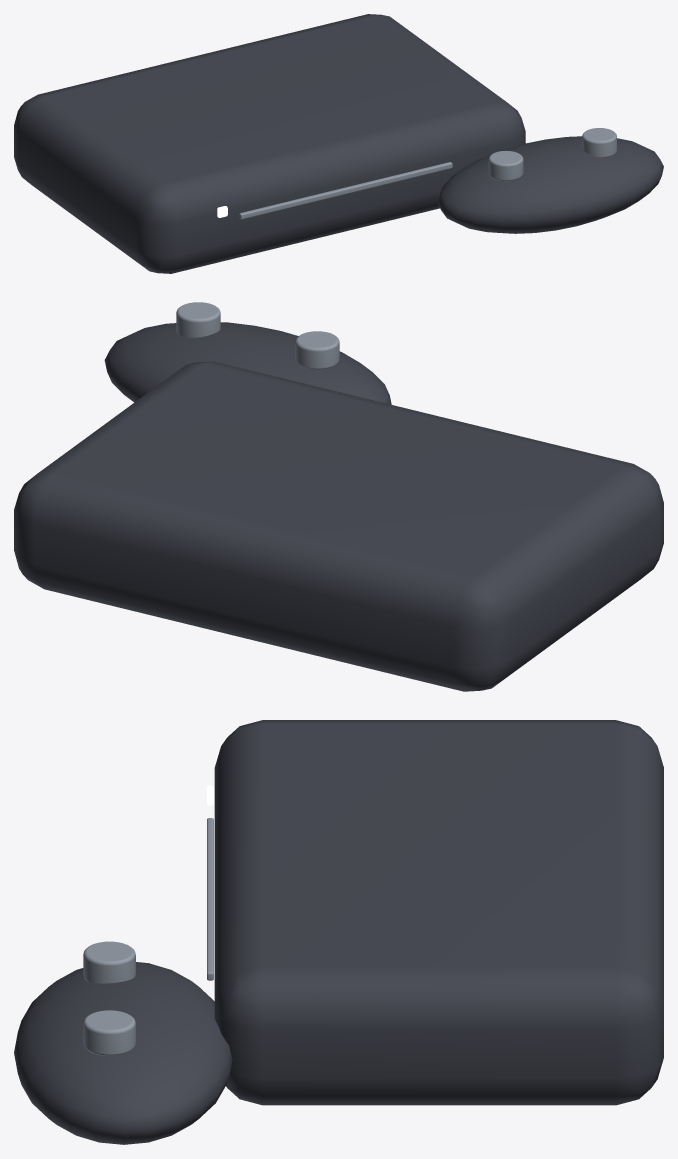
The model's file is consolePs3.glb.
3 views of the same model, one above another, from view 1: azimuth 30°, elevation 25°; view 2: azimuth 150°, elevation 25°; view 3: azimuth 270°, elevation 25° (orthographic). The views are drawn at different scales.
Visible parts, largest first — view 1: Console housing, Controller, Disc slot, Controller stick, Controller stick.001; view 2: Console housing, Controller, Controller stick, Controller stick.001; view 3: Console housing, Controller, Controller stick.001, Controller stick, Disc slot.
Boxes of the visible parts, x1=… form: Console housing: x1=14, y1=14, x2=525, y2=273; Controller: x1=437, y1=136, x2=663, y2=233; Disc slot: x1=239, y1=162, x2=452, y2=219; Controller stick: x1=488, y1=150, x2=523, y2=181; Controller stick.001: x1=582, y1=128, x2=616, y2=157; Console housing: x1=14, y1=361, x2=663, y2=691; Controller: x1=104, y1=322, x2=391, y2=404; Controller stick: x1=295, y1=331, x2=339, y2=369; Controller stick.001: x1=176, y1=302, x2=220, y2=337; Console housing: x1=214, y1=720, x2=663, y2=1105; Controller: x1=14, y1=962, x2=232, y2=1144; Controller stick.001: x1=83, y1=1010, x2=135, y2=1055; Controller stick: x1=83, y1=941, x2=135, y2=983; Disc slot: x1=207, y1=818, x2=213, y2=980.
Bounding box in the file's own units: 1.73 × 0.31 × 1.36.
